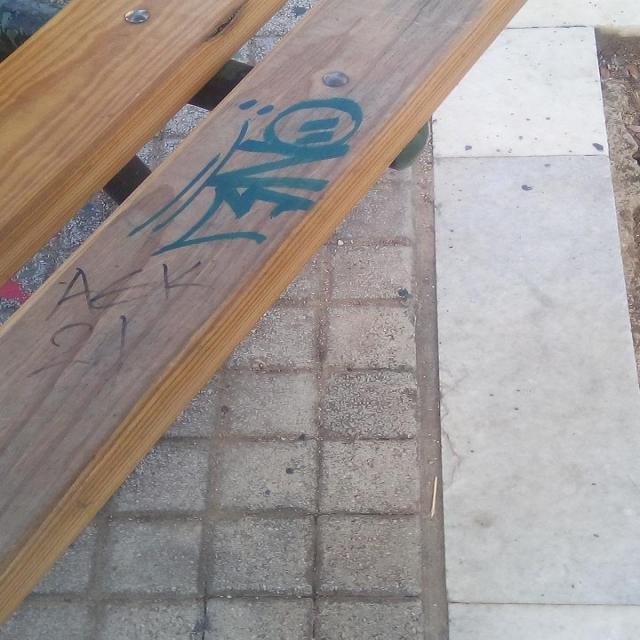nonspitting: (130, 95, 364, 252), (23, 256, 208, 373)
